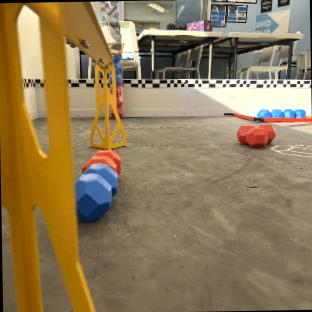V5_BLUE: (75, 149, 120, 220), (258, 108, 305, 118)
V5_RED: (82, 149, 120, 174), (237, 123, 275, 146), (116, 83, 122, 114)
